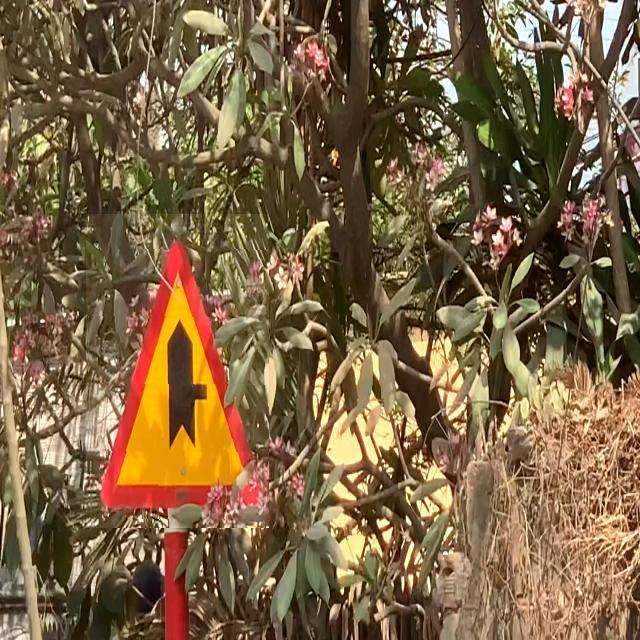W-207b: (86, 214, 269, 528)
